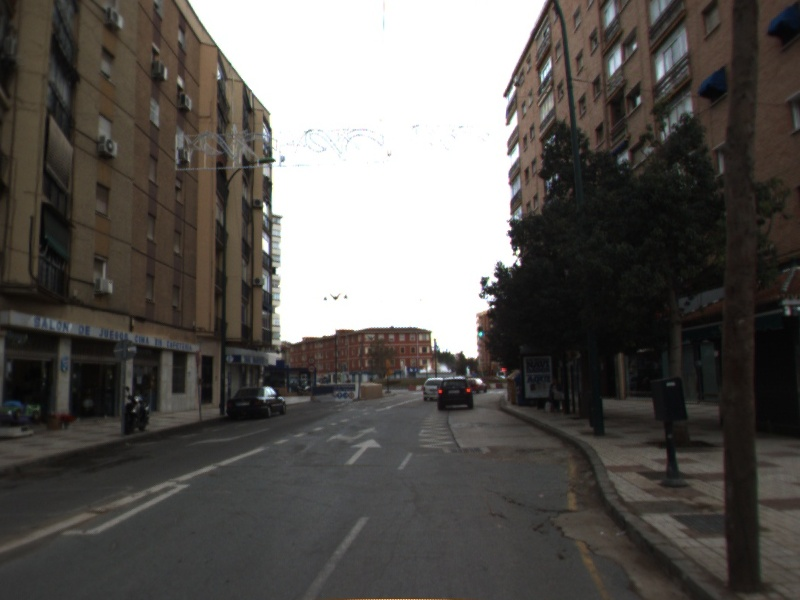STRAIGHT: (342, 436, 384, 467)
STRAIGHT_LEFT: (323, 425, 380, 445)
